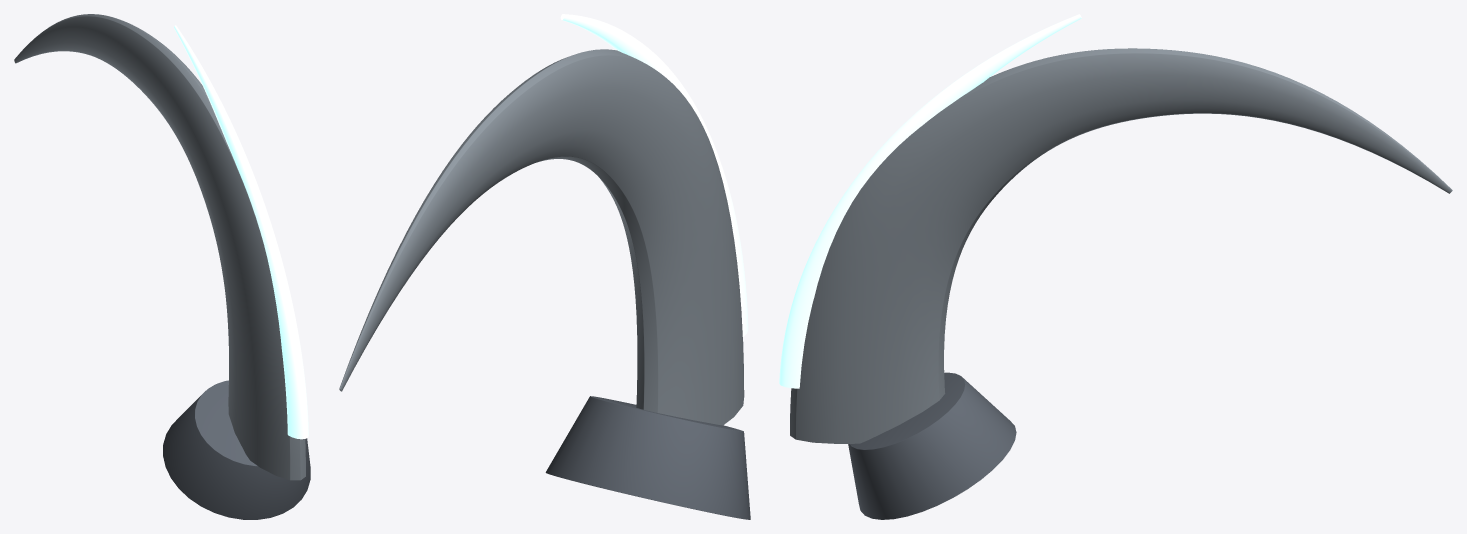
The model's file is hecarim_blade.glb.
3 views of the same model, side by side, from view 1: azimuth 30°, elevation 25°; view 2: azimuth 150°, elevation 25°; view 3: azimuth 270°, elevation 25° (orthographic). The views are drawn at different scales.
Parts seen in each view (by area): view 1: hecarim_blade; view 2: hecarim_blade; view 3: hecarim_blade.
Boxes of the visible parts, x1=… form: hecarim_blade: x1=14, y1=14, x2=310, y2=519; hecarim_blade: x1=339, y1=14, x2=750, y2=519; hecarim_blade: x1=779, y1=14, x2=1452, y2=519.
Size of the model in its own units: 0.1999 by 0.6131 by 0.7639.
